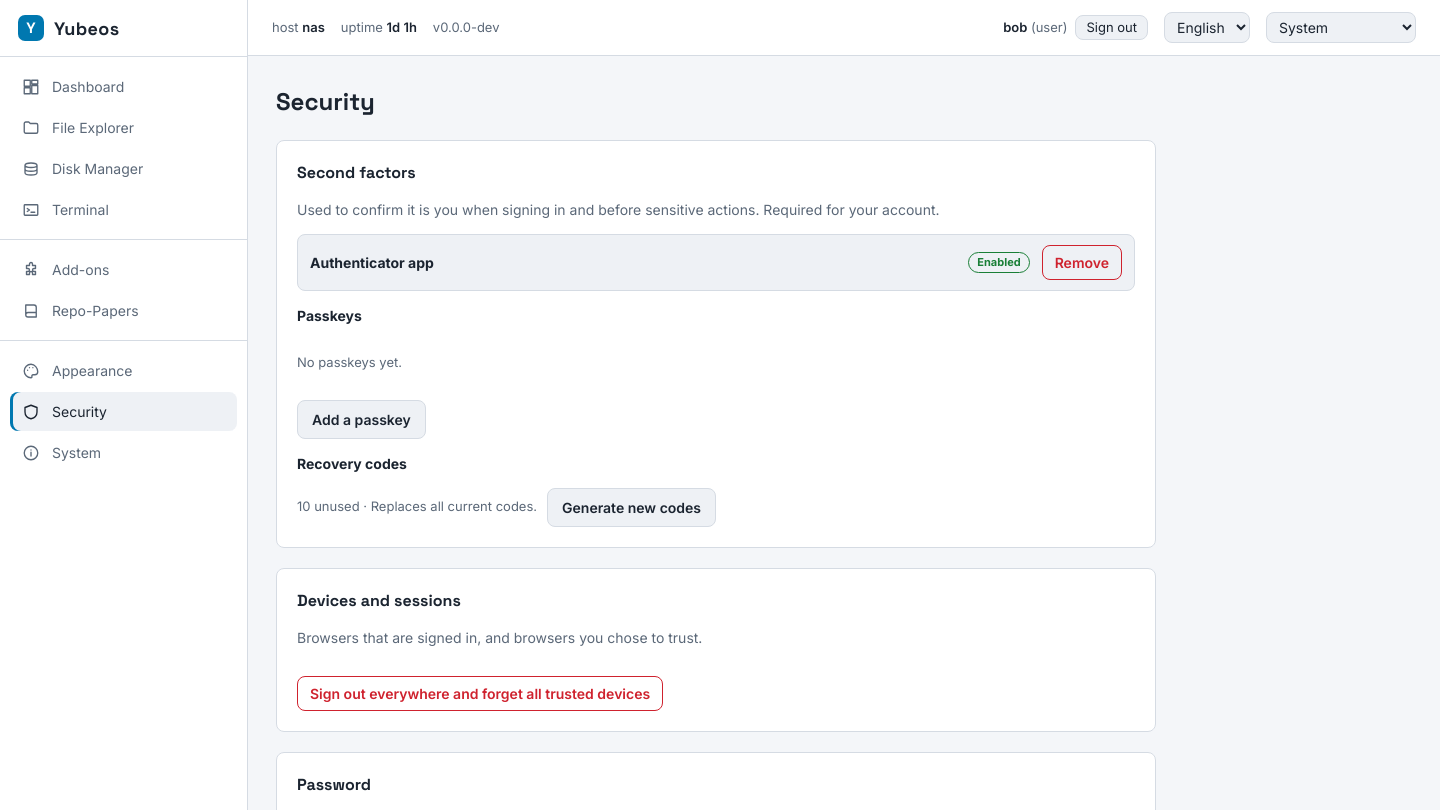
Scenario: Security page › retries a sensitive action after a successful step-up
The image size is (1440, 810).
Later steps or results of the test are not shown.
Click the button "Remove".
click(1082, 262)  # box left=1042, top=245, right=1122, bottom=280
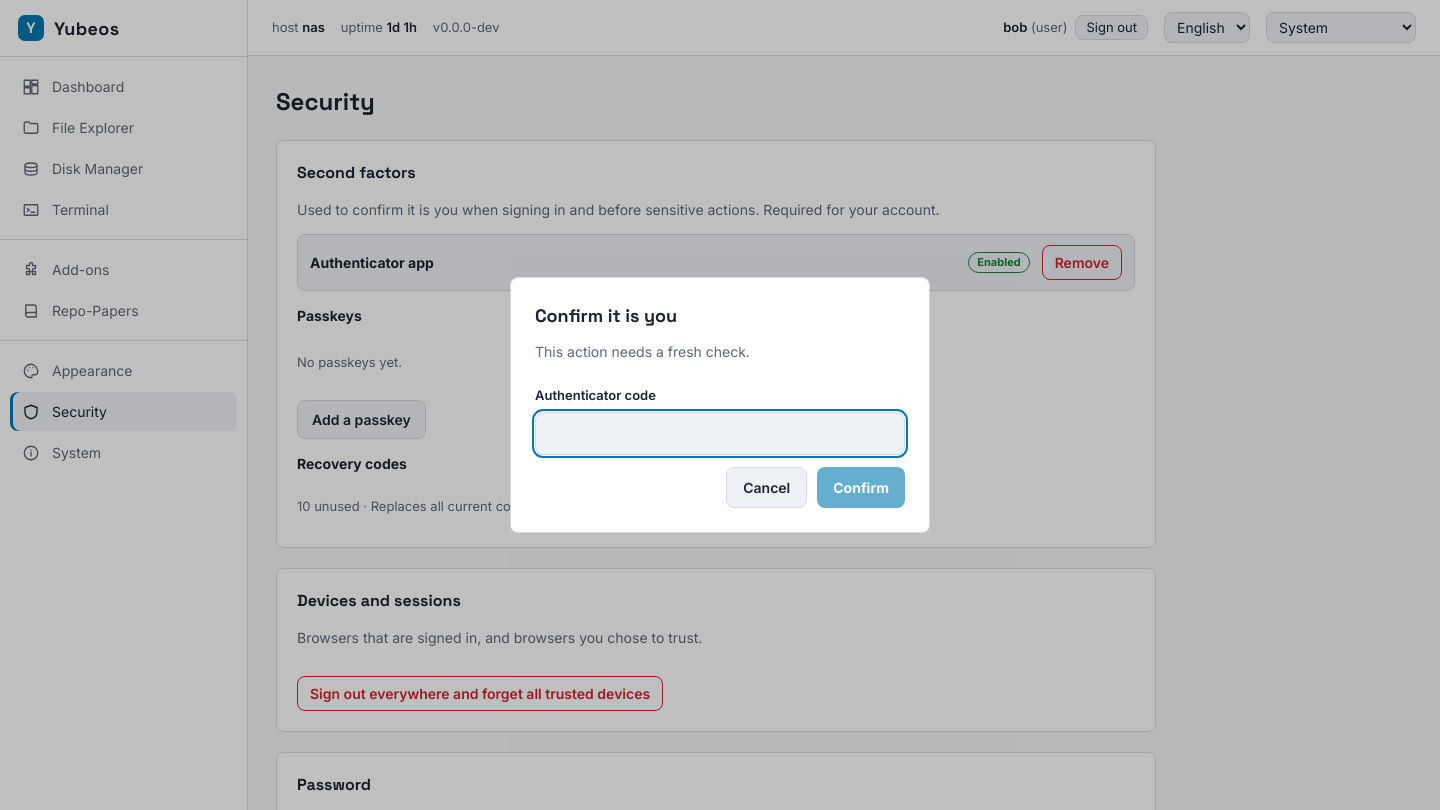
Result: the dialog is shown at left=510, top=277, right=930, bottom=533
